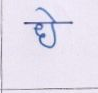e_matra: (37, 7, 57, 20)
